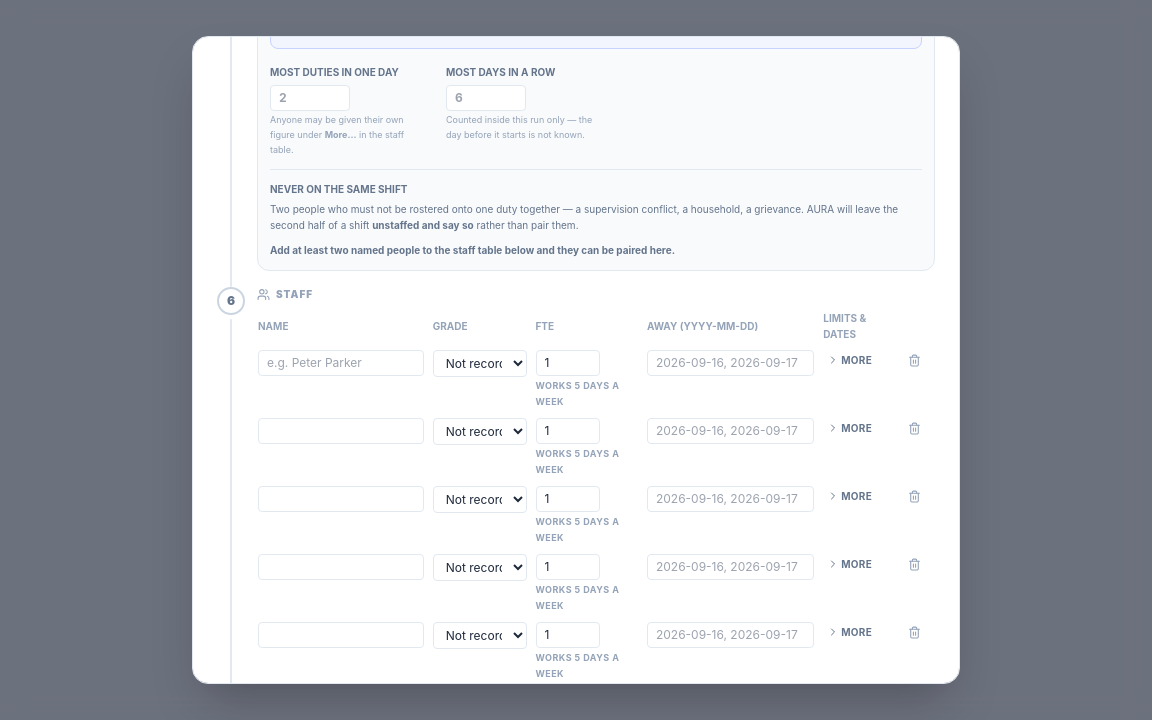
Test: the nine controls are on screen in the sandbox wizard › keeps both new staff controls behind the staff row disclosure, closed by default
Earlier steps of the test are not shown.
(page scrolled)
Click the button with aria-label "Staff row 1: limits and availability" at (850, 360), box [823,350,876,370]
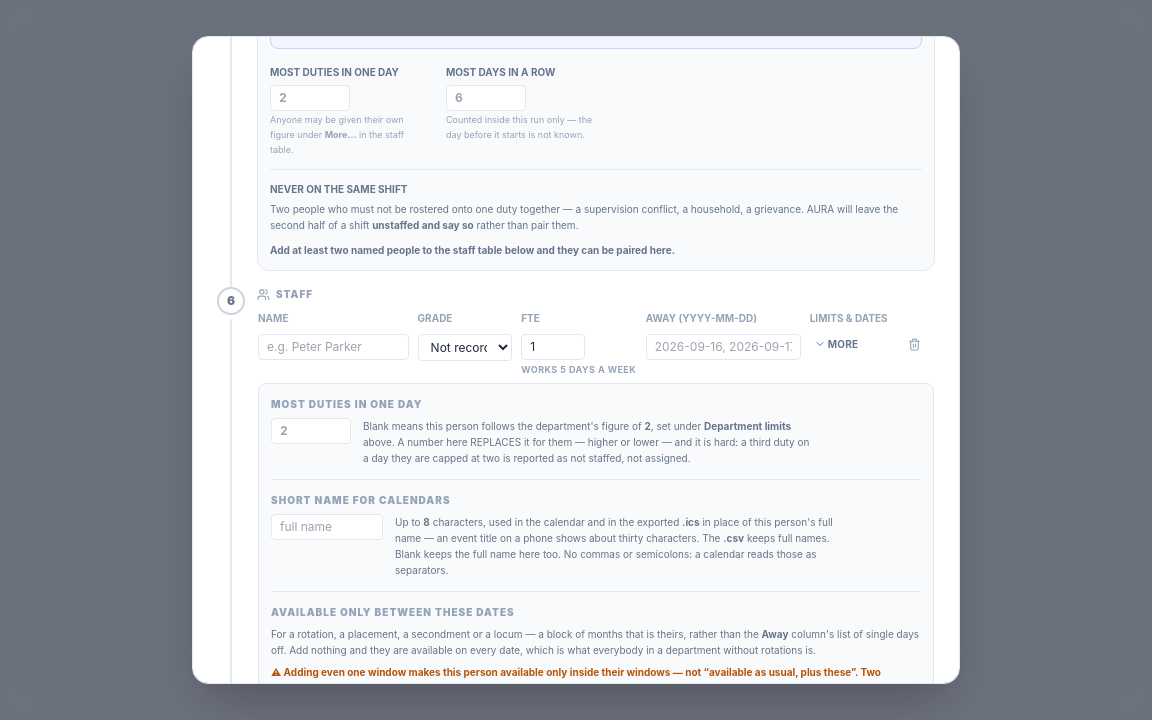
Expected: the field named "Staff row 1 most duties per day" is empty, [271,418,351,444]
Type "3" into the field labelled "Most duties in one day" at (310, 98), box [270,85,350,111]
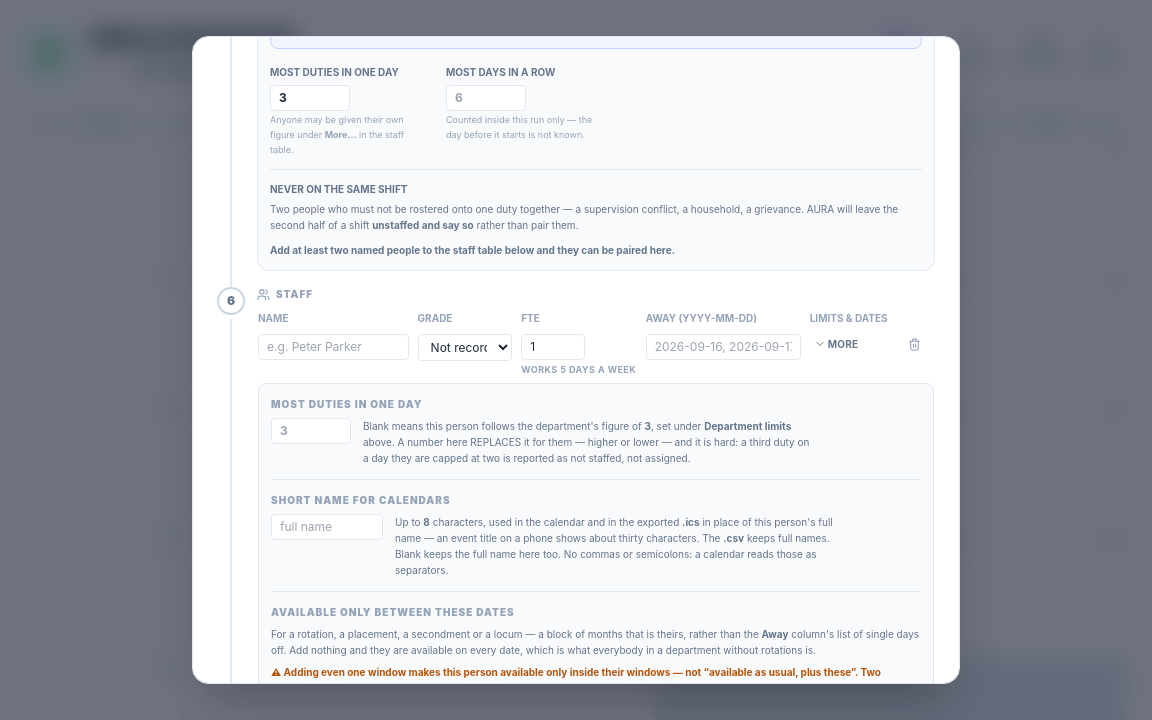
Expected: the field named "Staff row 1 most duties per day" has attribute placeholder="3", [271,418,351,444]
